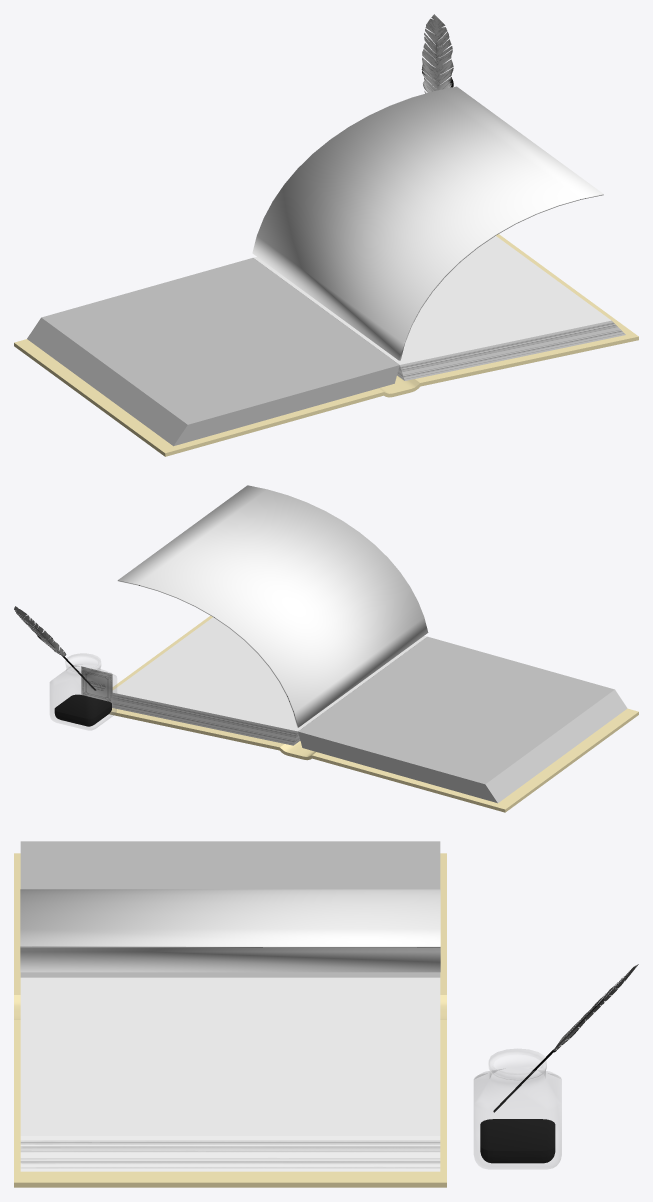
File: description_next.fbx
The picture shows the model from 3 angles, top to bottom: view 1: azimuth 30°, elevation 25°; view 2: azimuth 150°, elevation 25°; view 3: azimuth 270°, elevation 25°; orthographic projection. The views are drawn at different scales.
Parts seen in each view (by area): view 1: Cube.006, Cube.003, Cube, Cube.002, Plane.002; view 2: Cube.006, Cube.003, Cube, Cube.002, Cube.004, Cube.005, Plane.002; view 3: Cube, Cube.006, Cube.003, Cube.002, Cube.004, Cube.005, Plane.002.
Part boxes in pixels (box(x1,y1,x2,y2)): Cube.006: box(252, 86, 603, 360); Cube.003: box(27, 258, 399, 446); Cube: box(253, 236, 625, 380); Cube.002: box(14, 234, 638, 456); Plane.002: box(421, 14, 453, 93); Cube.006: box(117, 485, 428, 727); Cube.003: box(298, 636, 627, 803); Cube: box(112, 617, 427, 745); Cube.002: box(109, 616, 638, 812); Cube.004: box(50, 653, 116, 730); Cube.005: box(54, 694, 111, 726); Plane.002: box(14, 606, 96, 690); Cube: box(20, 977, 440, 1171); Cube.006: box(20, 889, 440, 972); Cube.003: box(20, 841, 440, 977); Cube.002: box(14, 853, 446, 1187); Cube.004: box(474, 1049, 561, 1169); Cube.005: box(480, 1119, 555, 1163); Plane.002: box(493, 964, 638, 1112).
Size of what is drawn, in the model's own units: 329 by 104 by 252.
